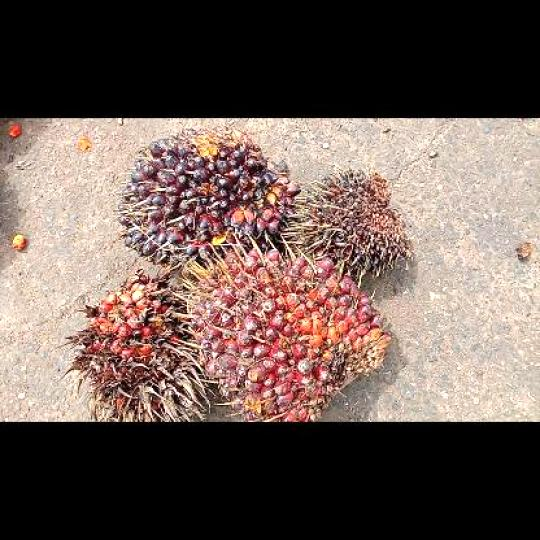kurang masak: (113, 127, 302, 266)
masak: (176, 245, 395, 420)
terlalu masak: (46, 265, 215, 420)
